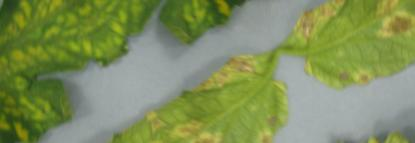Tomato mold leaf: (139, 25, 318, 143), (38, 0, 252, 85), (232, 139, 378, 143)
